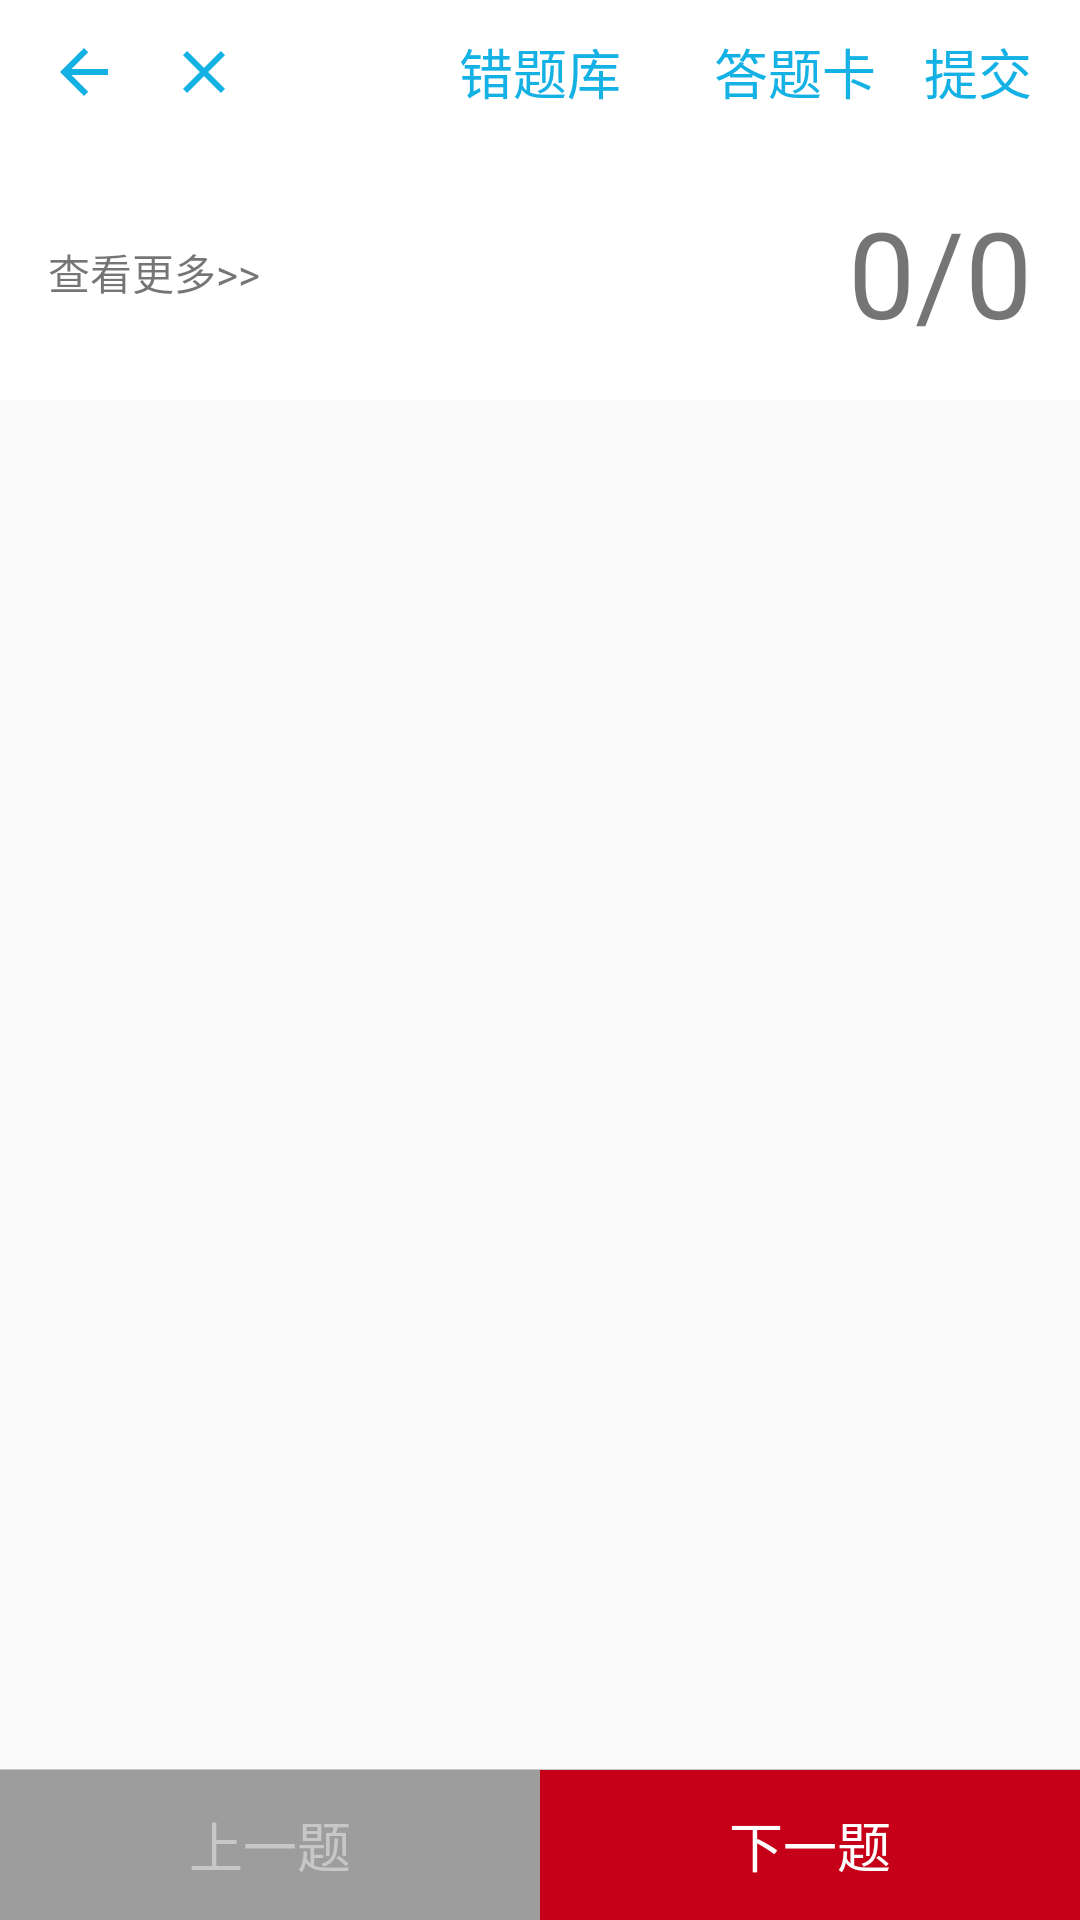

Screen size 1080px×1920px. Icon name, then its center in pixels as point (x, y):
card back: point (84, 72)
card clear: point (204, 72)
